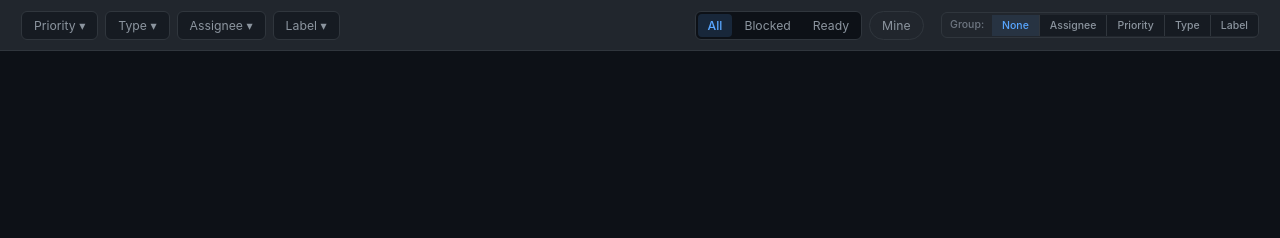
Scenario: FilterBar › closes dropdown on Escape key
The width and height of the screenshot is (1280, 238).
Click the button with class "filter-btn" showing "Priority ▾" at point(60, 25), box [21,10,98,40]
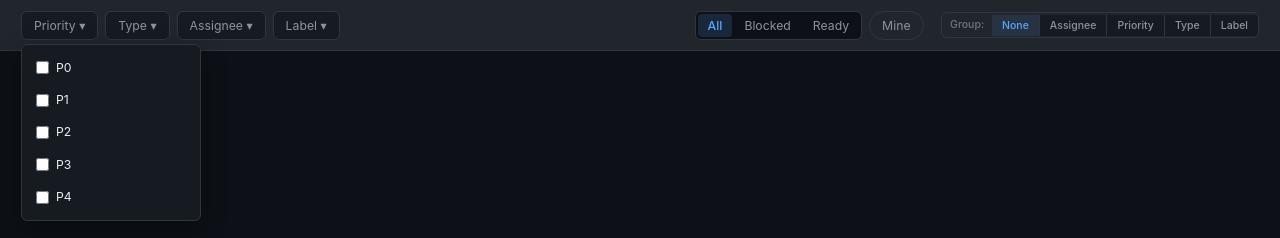
Now the text "P0" is shown, box [56,58,72,77]
Press Escape
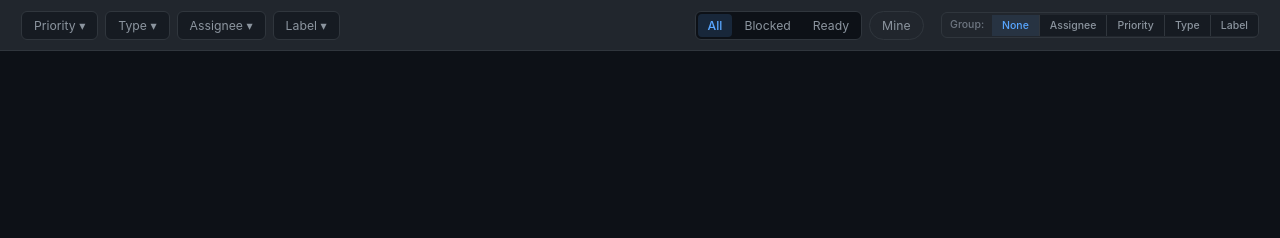
Now the text "P0" is gone
